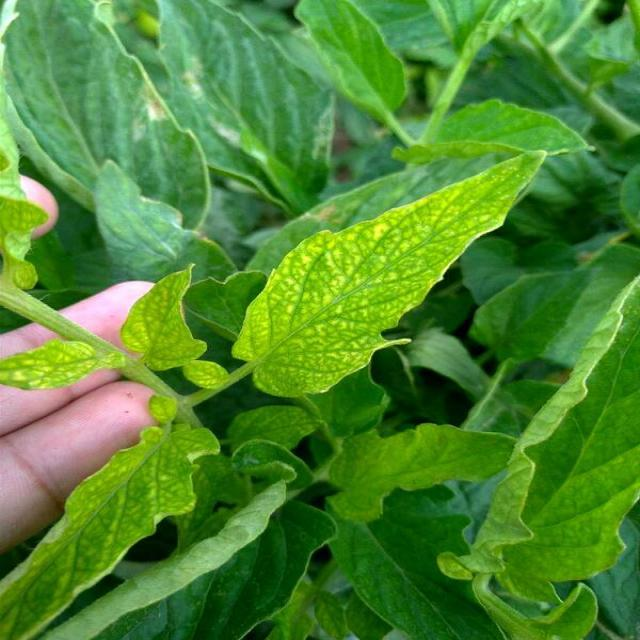Tomato target spot leaf: (222, 149, 544, 403), (448, 266, 640, 580), (0, 408, 222, 640), (330, 422, 520, 527), (112, 259, 214, 371), (0, 339, 98, 394)
